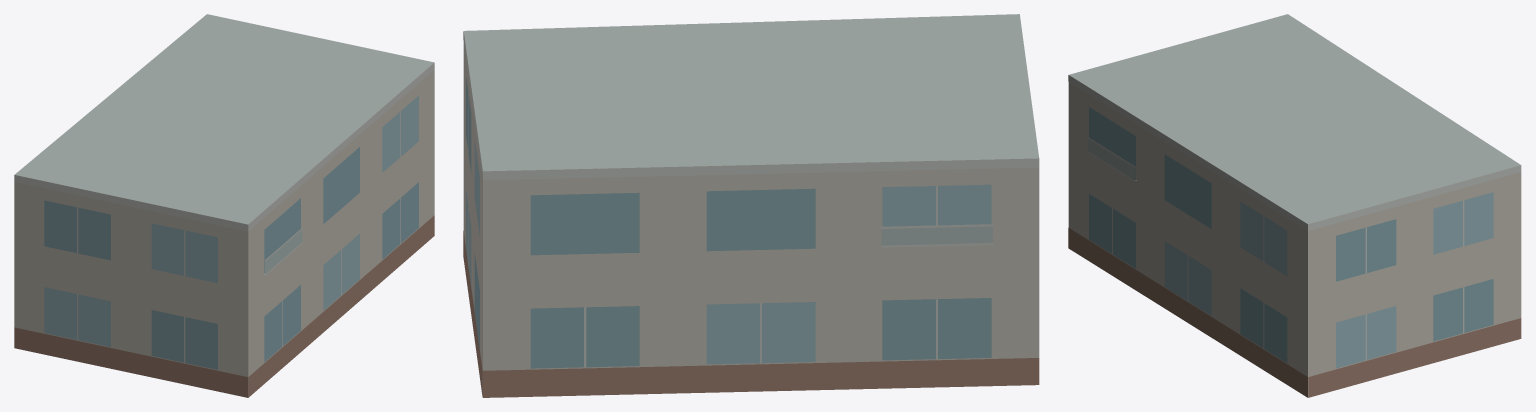
Rendered from survey-upis-32606080.glb.
3 renders of one model, left to right at view 1: azimuth 30°, elevation 25°; view 2: azimuth 150°, elevation 25°; view 3: azimuth 270°, elevation 25°, orthographic. The views are drawn at different scales.
Parts seen in each view (by area): view 1: survey-upis-32606080.tmp; view 2: survey-upis-32606080.tmp; view 3: survey-upis-32606080.tmp.
Part boxes in pixels (x1,y1,x2,y2): survey-upis-32606080.tmp: [14, 14, 434, 397]; survey-upis-32606080.tmp: [463, 14, 1039, 397]; survey-upis-32606080.tmp: [1068, 14, 1521, 397].
Size of the model in its own units: 15.86 by 6.1 by 14.43.
